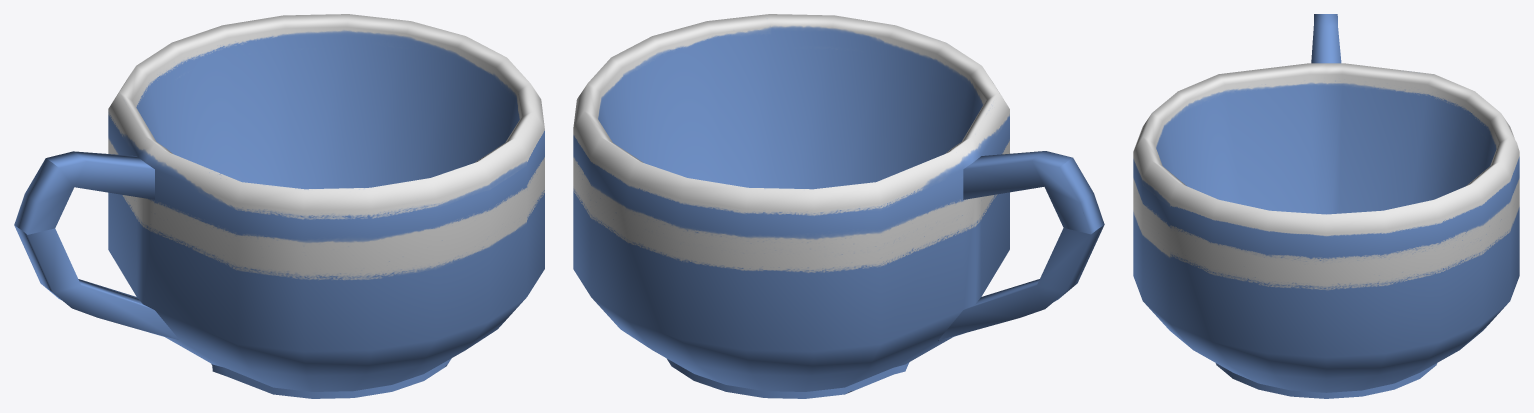
Rendered from OBJ_TeaCup_v000.fbx.
The picture shows the model from 3 angles, left to right: view 1: azimuth 30°, elevation 25°; view 2: azimuth 150°, elevation 25°; view 3: azimuth 270°, elevation 25°; orthographic projection. The views are drawn at different scales.
Visible parts, largest first — view 1: teacup; view 2: teacup; view 3: teacup.
Part boxes in pixels (x1=…): teacup: x1=14, y1=14, x2=544, y2=398; teacup: x1=573, y1=14, x2=1104, y2=398; teacup: x1=1133, y1=14, x2=1519, y2=398.
Bounding box in the file's own units: 0.2236 × 0.1068 × 0.1714.
